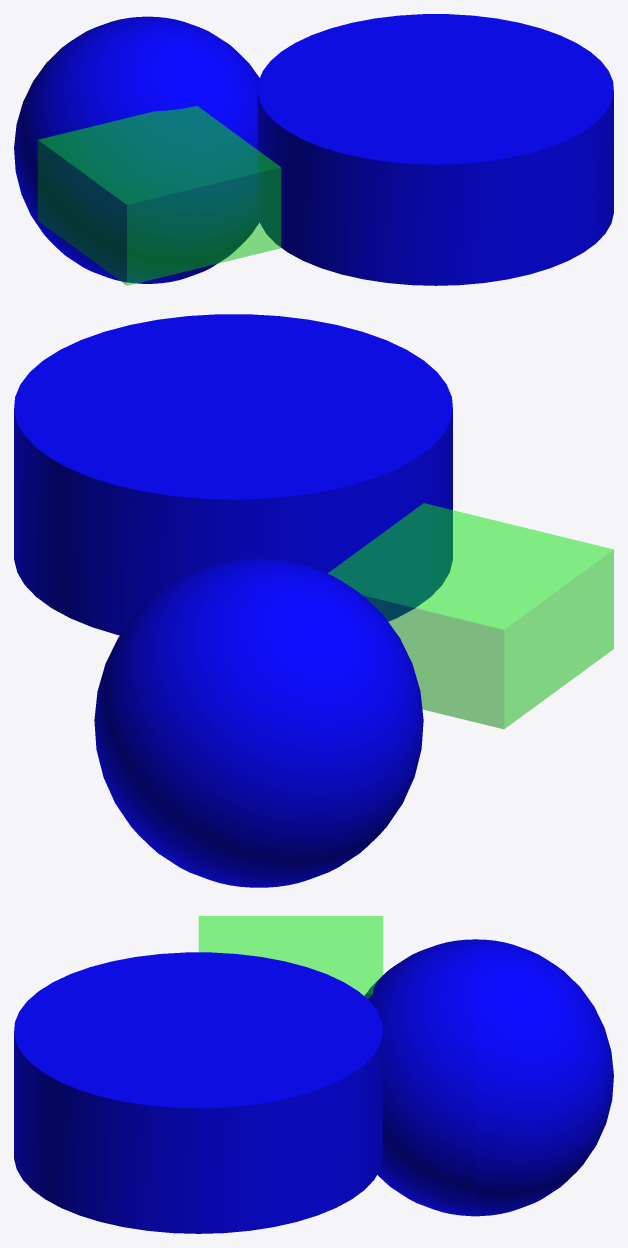
The model's file is MultiLayer.gltf.
3 renders of one model, top to bottom at view 1: azimuth 30°, elevation 25°; view 2: azimuth 150°, elevation 25°; view 3: azimuth 270°, elevation 25°, orthographic. The views are drawn at different scales.
Parts seen in each view (by area): view 1: Cylinder_1, Sphere_1, Box_1; view 2: Cylinder_1, Sphere_1, Box_1; view 3: Cylinder_1, Sphere_1, Box_1.
Part boxes in pixels (x1,y1,x2,y2): Cylinder_1: (257,14,613,285); Sphere_1: (14,16,259,283); Box_1: (37,106,281,285); Cylinder_1: (14,314,452,635); Sphere_1: (94,558,423,887); Box_1: (328,503,613,729); Cylinder_1: (14,952,382,1233); Sphere_1: (364,939,613,1216); Box_1: (198,916,383,998).
Size of the model in its own units: 60 by 30 by 64.98.
